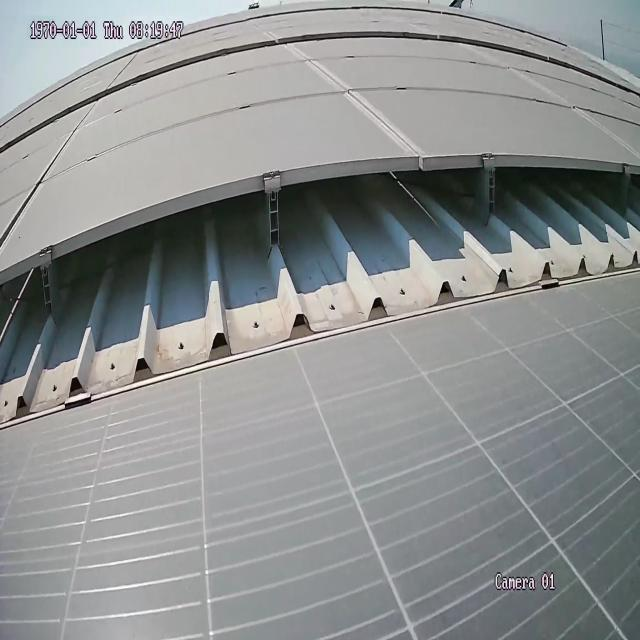interior panel: (289, 43, 423, 152), (3, 106, 92, 247)
outher panel: (0, 155, 640, 431)
